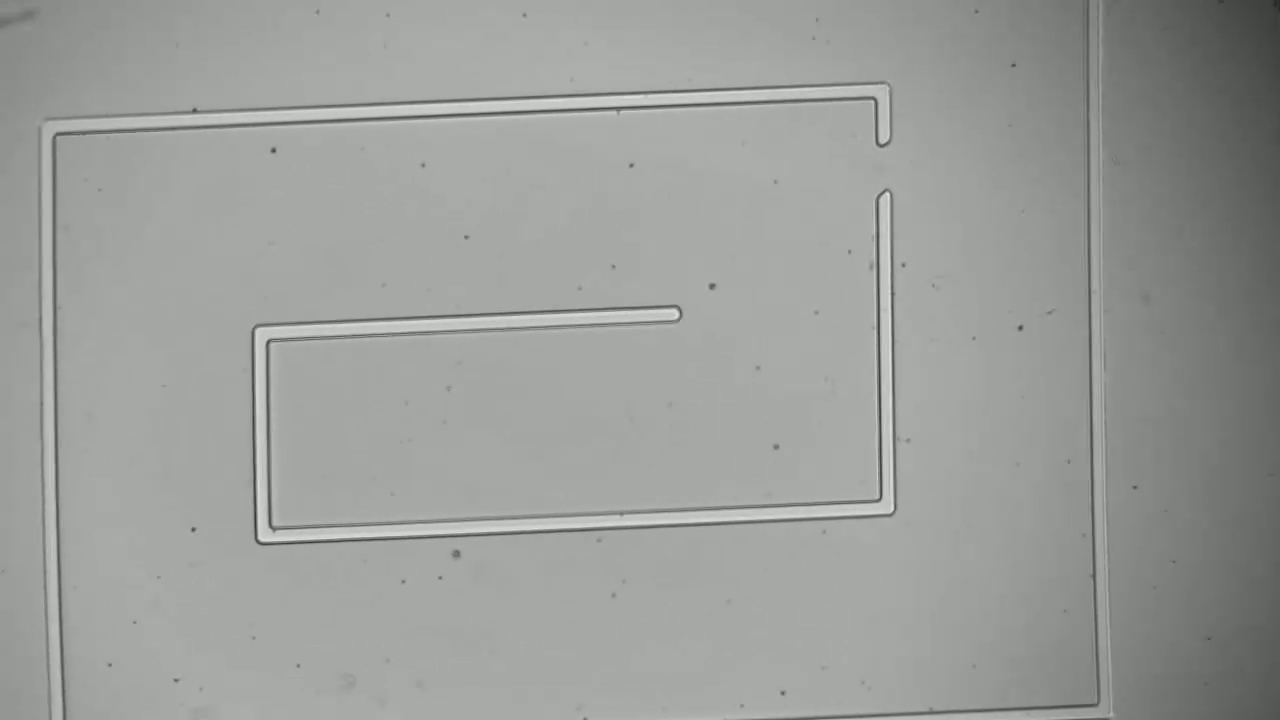open: (863, 106, 918, 222)
